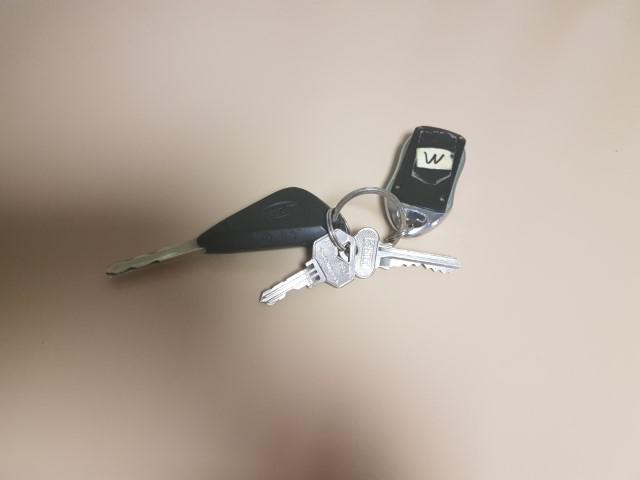key: (106, 187, 349, 279)
